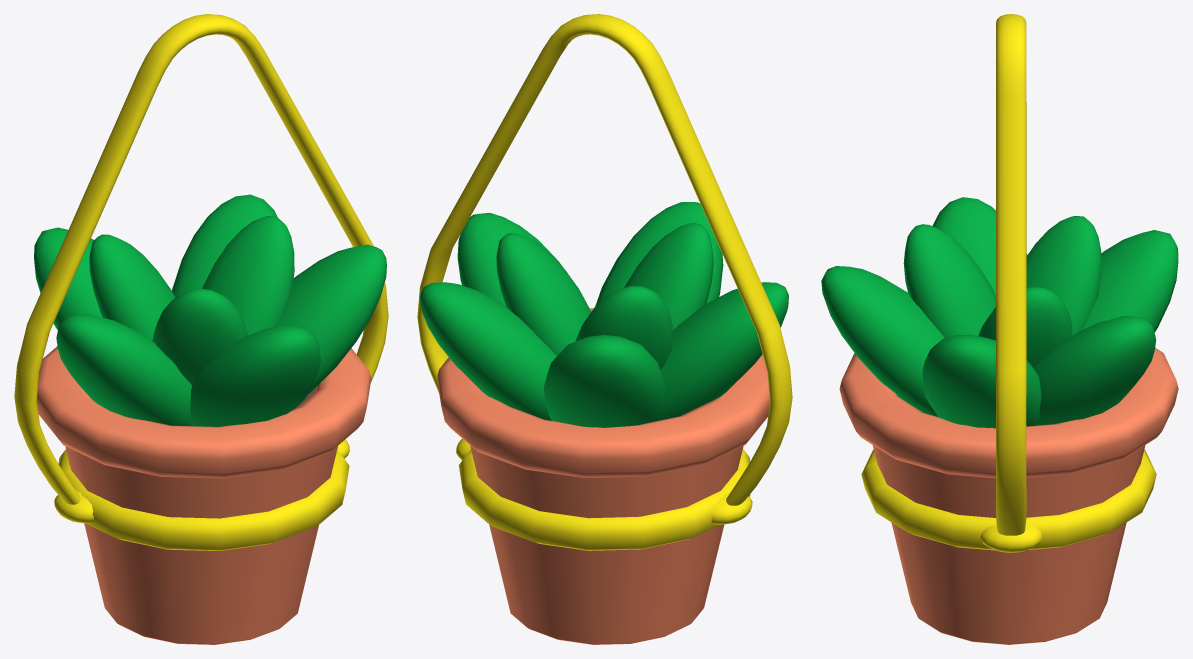
The model's file is Farm_15_Wall_Plant_1.glb.
3 views of the same model, side by side, from view 1: azimuth 30°, elevation 25°; view 2: azimuth 150°, elevation 25°; view 3: azimuth 270°, elevation 25° (orthographic).
Parts seen in each view (by area): view 1: Farm_15_Wall_Plant_1; view 2: Farm_15_Wall_Plant_1; view 3: Farm_15_Wall_Plant_1.
Part boxes in pixels (x1,y1,x2,y2): Farm_15_Wall_Plant_1: [14, 14, 388, 644]; Farm_15_Wall_Plant_1: [417, 14, 792, 644]; Farm_15_Wall_Plant_1: [821, 14, 1178, 644].
Bounding box in the file's own units: 0.573 × 0.8751 × 0.485.
Materials: 1 (1 with a texture image).
